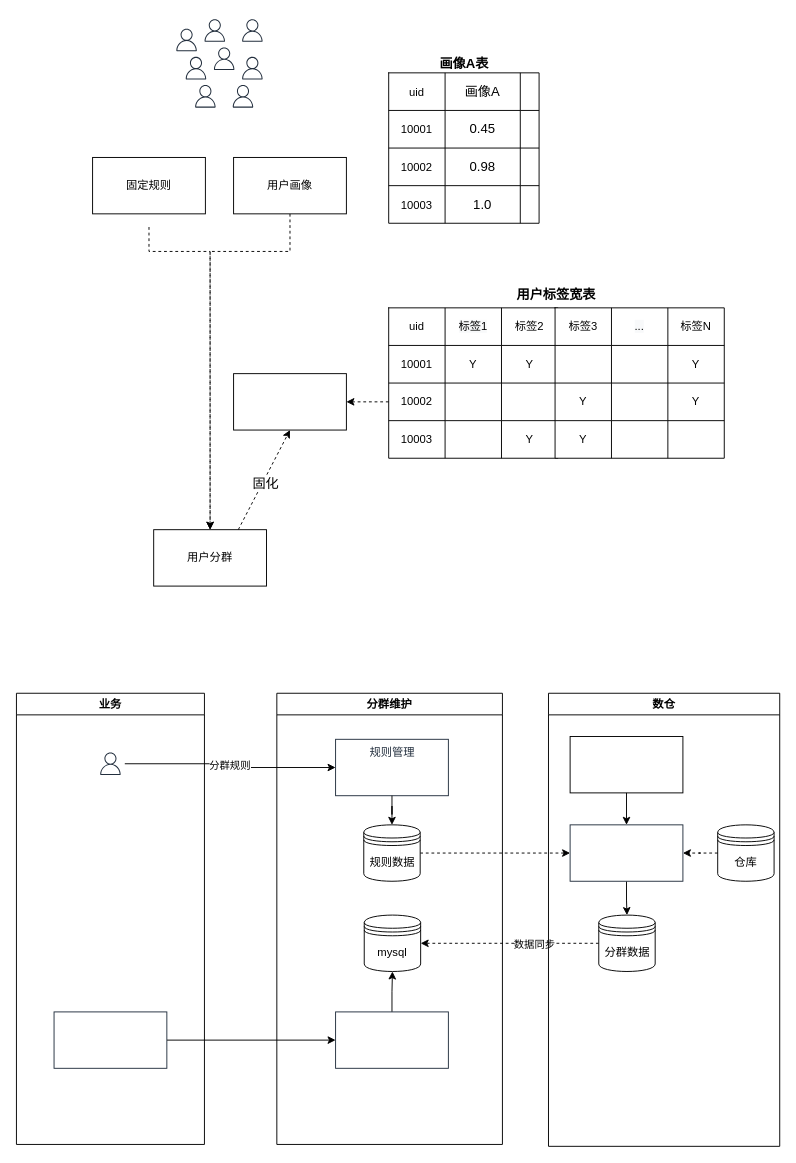
This 796x1163 diagram has some shape labels left out. Here are the shapes that lost their labels. From the top down, the centre of each, then its label:
the point at 289,401: 用户标签
the point at 626,764: 定时任务
the point at 626,852: 执行规则 打标签
the point at 110,1039: 业务层
the point at 391,1039: 查询分群接口
